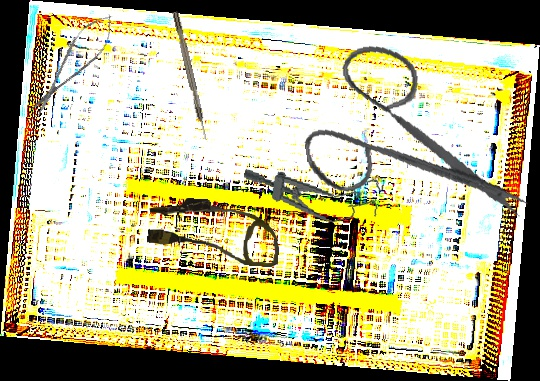Cannula: (145, 195, 283, 268)
Hook Surgical: (172, 10, 209, 142)
Iris Scissors: (290, 23, 533, 252)
Micro Scissor: (21, 5, 124, 124)
Speculum: (238, 158, 386, 230)
